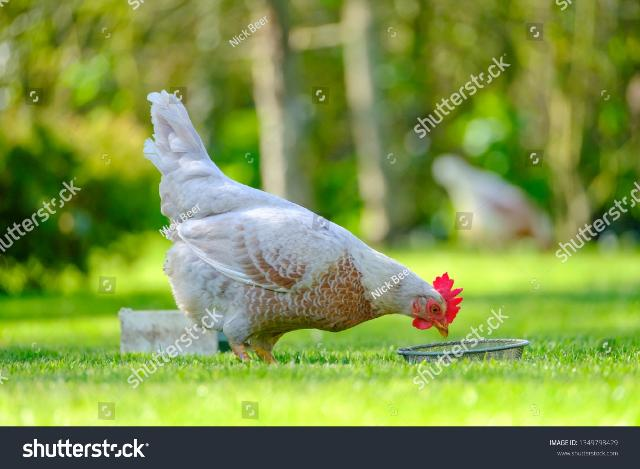Chicken: (143, 87, 462, 367)
